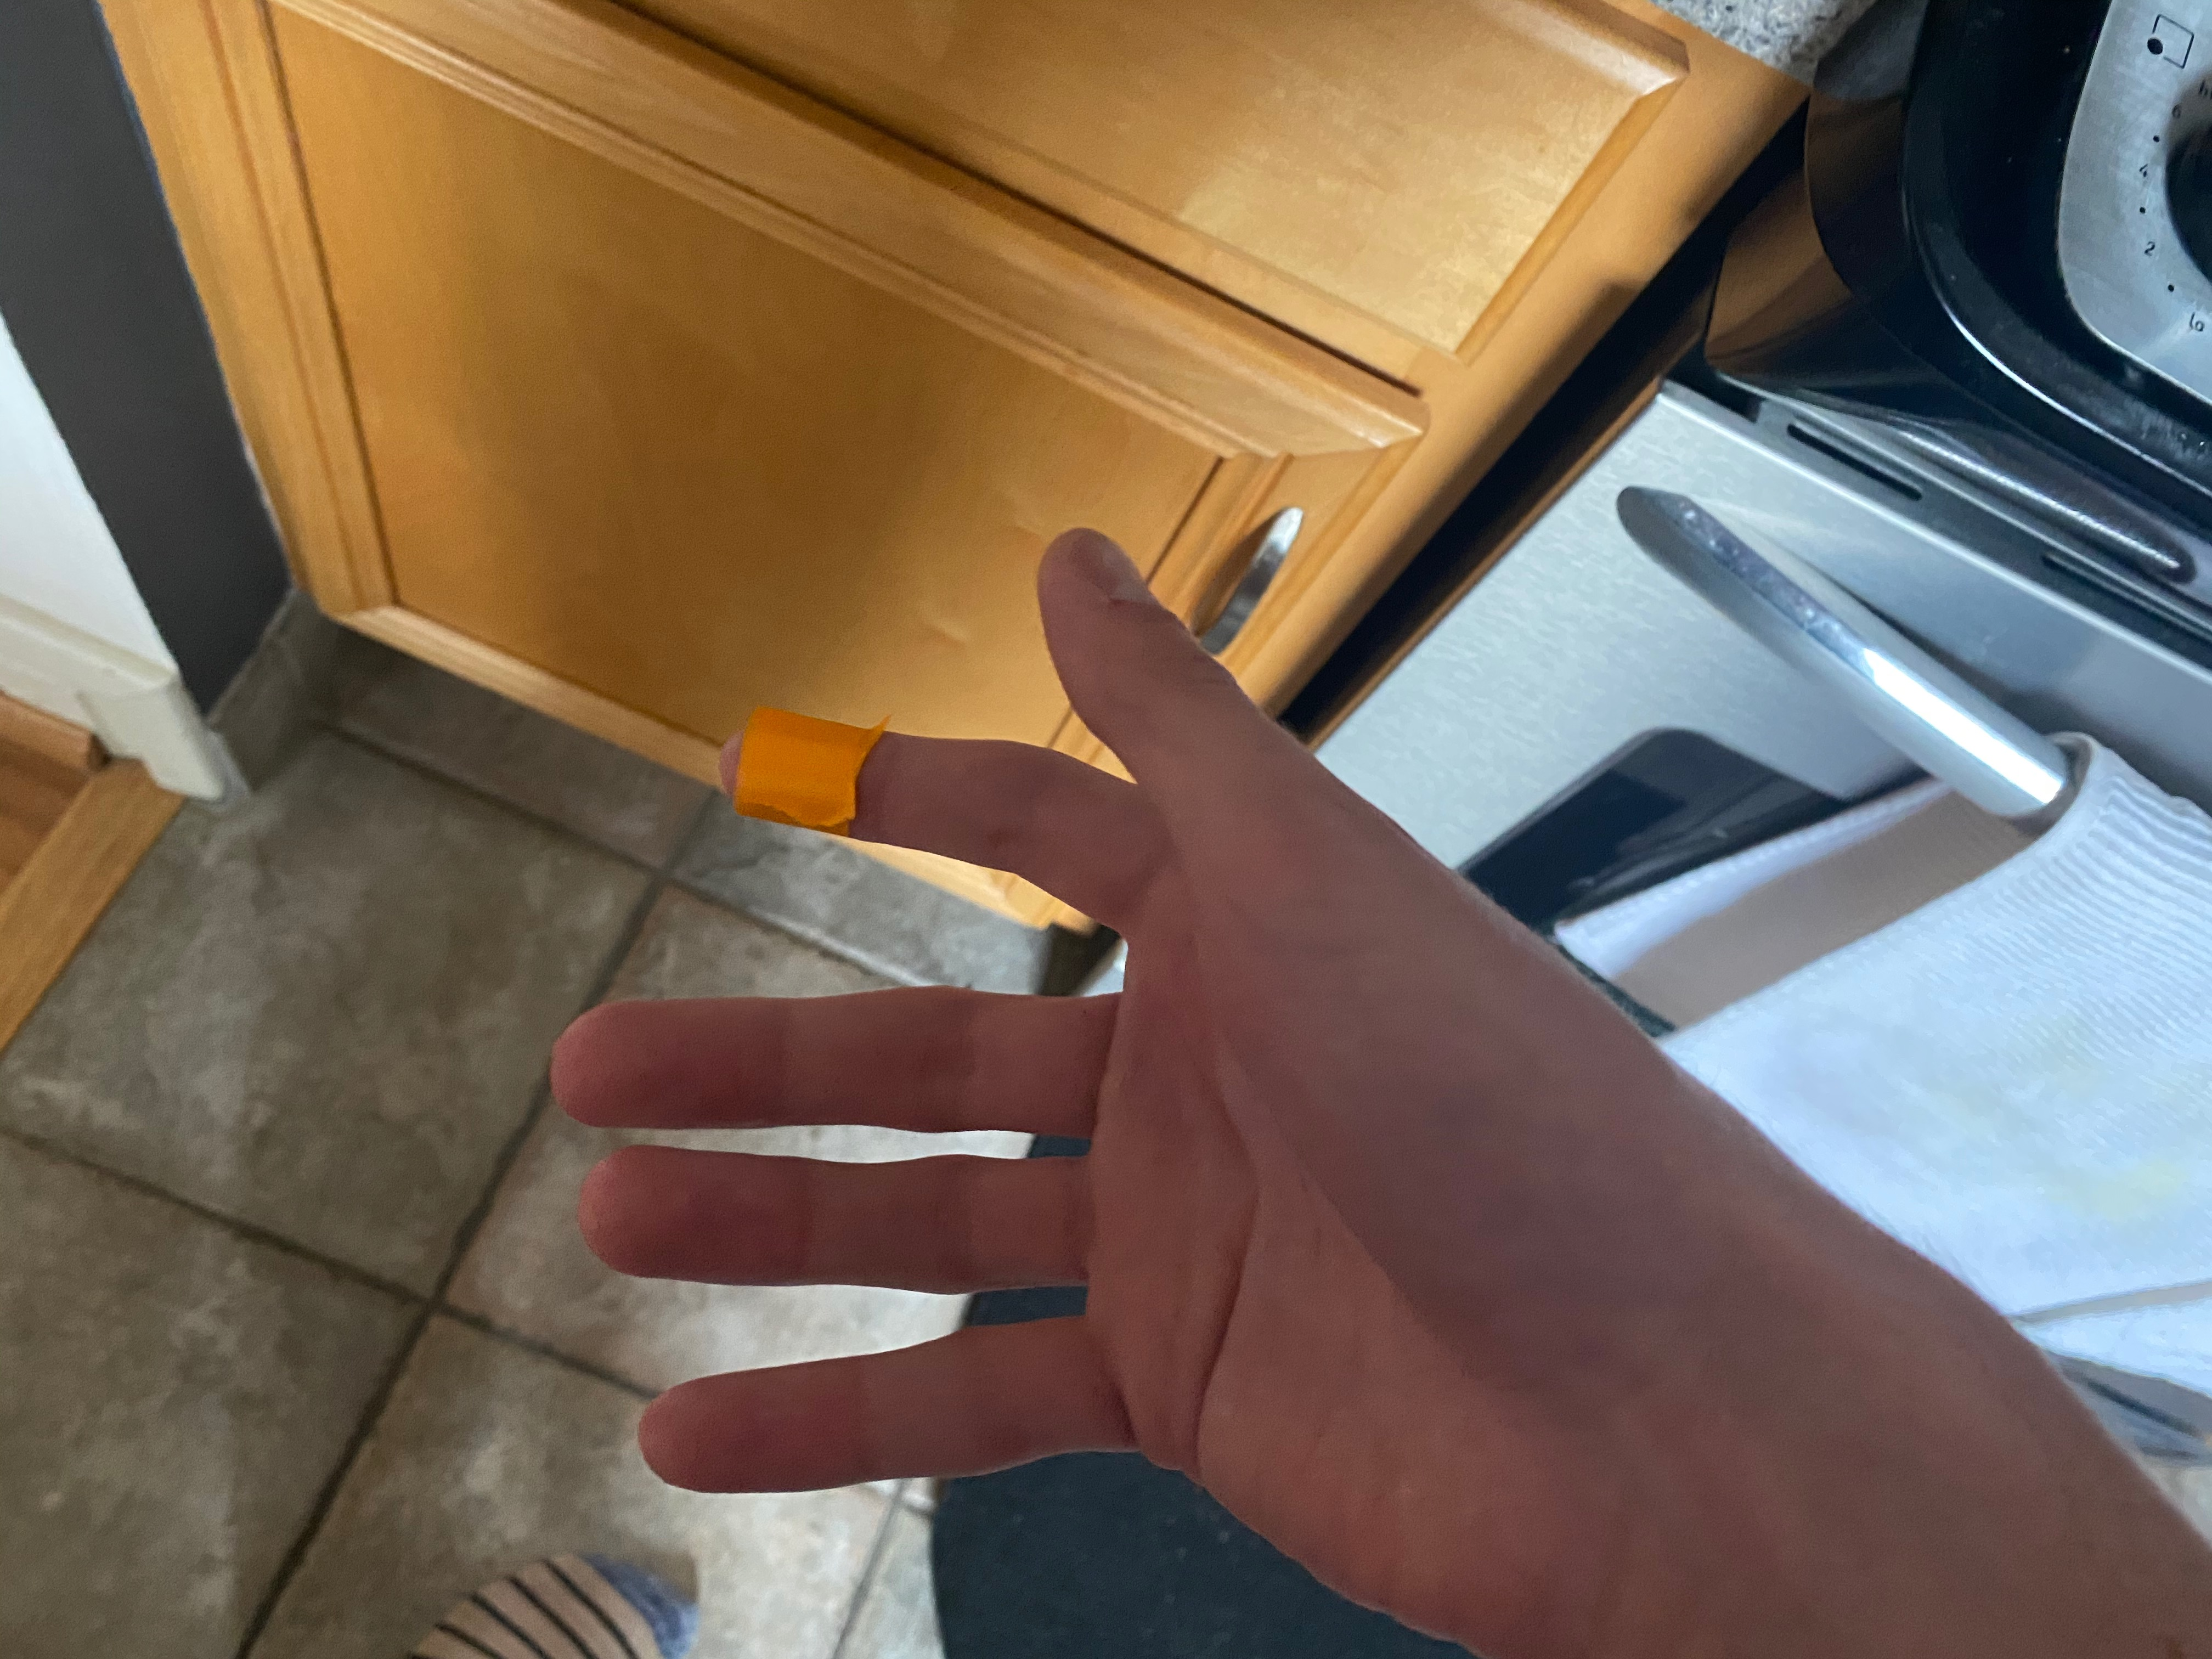fingertip: (698, 695, 892, 868)
